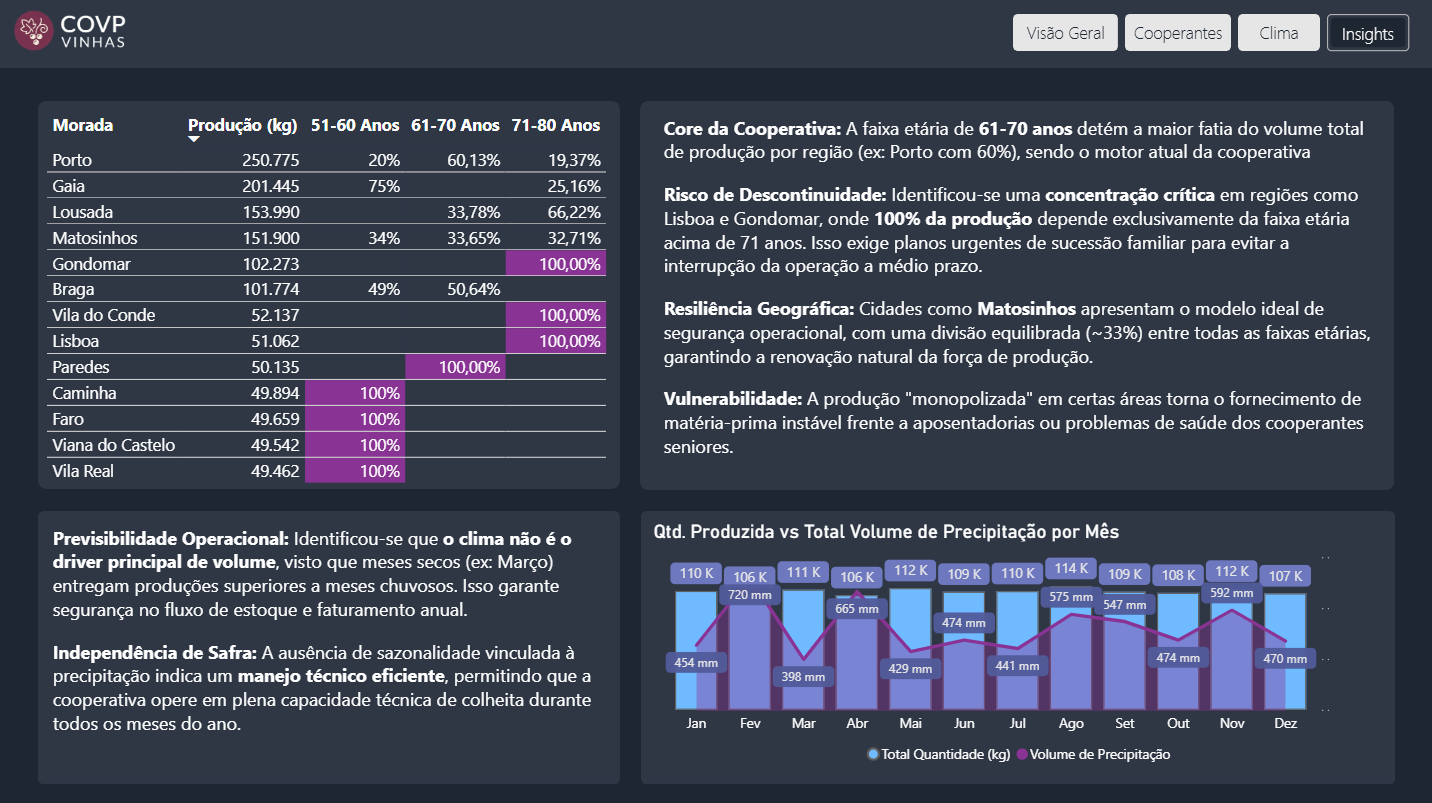

The page's visual inventory and layout, read from the dashboard file:
{"tool":"powerbi","page":{"name":"Insight","canvas":[1280,720],"ordinal":3},"visuals":[{"type":"shape","box":[38.3,455.6,516,242.5],"z":0,"group":"g4"},{"type":"group","id":"g1","title":"Grupo 1","box":[573.2,455.6,668.8,242.5],"z":0},{"type":"shape","box":[0,0,1280,63],"z":1000},{"type":"textbox","box":[46.5,463.1,497.1,235.7],"z":1000,"group":"g4"},{"type":"image","box":[0,7.8,133.3,45.7],"z":2000},{"type":"actionButton","box":[1181.1,15.1,72.7,32.8],"z":3000},{"type":"actionButton","box":[1102.2,15.1,72.7,32.8],"z":4000},{"type":"actionButton","box":[1002,15.1,94,32.8],"z":5000},{"type":"actionButton","box":[902.7,15.1,93.1,32.8],"z":6000},{"type":"group","id":"g2","title":"Grupo 2","box":[38.3,92.5,516,344],"z":7000},{"type":"group","id":"g3","title":"Grupo 3","box":[571.7,92.5,668.8,345.1],"z":8000},{"type":"shape","box":[571.7,92.5,668.8,345],"z":8000,"group":"g3"},{"type":"textbox","box":[587.5,100.4,645.1,337.2],"z":9000,"group":"g3"},{"type":"group","id":"g4","title":"Grupo 4","box":[38.3,455.6,516,243.3],"z":9000},{"type":"shape","box":[573.2,455.6,668.8,242.5],"z":11000,"group":"g1"},{"type":"shape","box":[38.3,92.5,516,344],"z":13500,"group":"g2"},{"type":"lineStackedColumnComboChart","title":"Qtd. Produzida vs Total Volume de Precipitação por Mês","fields":{"Y":["Medida.Total Quantidade (kg)"],"Y2":["_Medida.Total Precipitação"],"Category":["Calendario.Mês Abreviado"]},"box":[579.4,463.4,662.3,226.3],"z":16000,"group":"g1"},{"type":"tableEx","fields":{"Values":["Cooperantes.Morada","Medida.Total Quantidade (kg)","Medida.% Prod 51-60","Medida.% Prod 61-70","Medida.% Prod 71-80"]},"box":[40.2,97,508.6,339.5],"z":17003,"group":"g2"}]}

Visuals, with their boxes in screenshot pixels (x1, y1, x2, y2), scaled from the page's 1280x720 canvas onto the 1432x803 screenshot:
shape: (x1=43, y1=508, x2=620, y2=779)
"Grupo 1" group: (x1=641, y1=508, x2=1389, y2=779)
shape: (x1=0, y1=0, x2=1431, y2=70)
textbox: (x1=52, y1=516, x2=608, y2=779)
image: (x1=0, y1=9, x2=149, y2=60)
actionButton: (x1=1321, y1=17, x2=1403, y2=53)
actionButton: (x1=1233, y1=17, x2=1314, y2=53)
actionButton: (x1=1121, y1=17, x2=1226, y2=53)
actionButton: (x1=1010, y1=17, x2=1114, y2=53)
"Grupo 2" group: (x1=43, y1=103, x2=620, y2=487)
"Grupo 3" group: (x1=640, y1=103, x2=1388, y2=488)
shape: (x1=640, y1=103, x2=1388, y2=488)
textbox: (x1=657, y1=112, x2=1379, y2=488)
"Grupo 4" group: (x1=43, y1=508, x2=620, y2=779)
shape: (x1=641, y1=508, x2=1389, y2=779)
shape: (x1=43, y1=103, x2=620, y2=487)
"Qtd. Produzida vs Total Volume de Precipitação por Mês" lineStackedColumnComboChart: (x1=648, y1=517, x2=1389, y2=769)
tableEx - Cooperantes.Morada x Medida.Total Quantidade (kg): (x1=45, y1=108, x2=614, y2=487)
